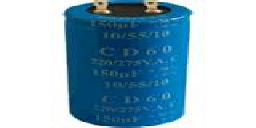Electrolytic Capacitor: (60, 2, 205, 128)
